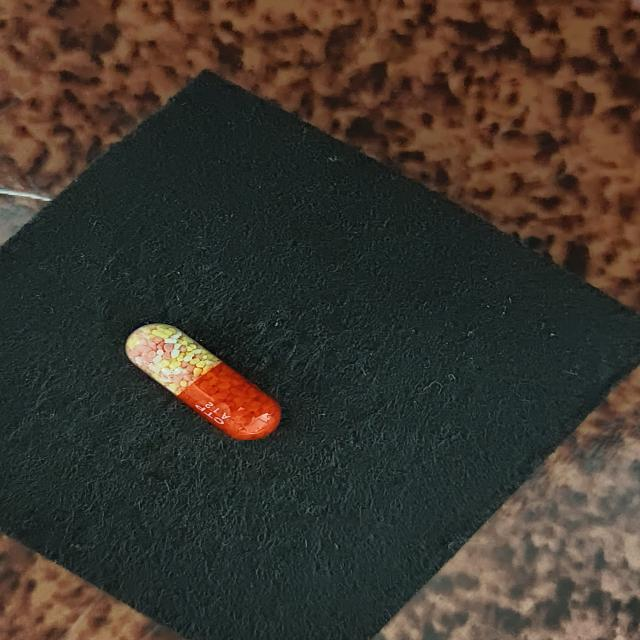Intact Capsule: (125, 324, 281, 440)
